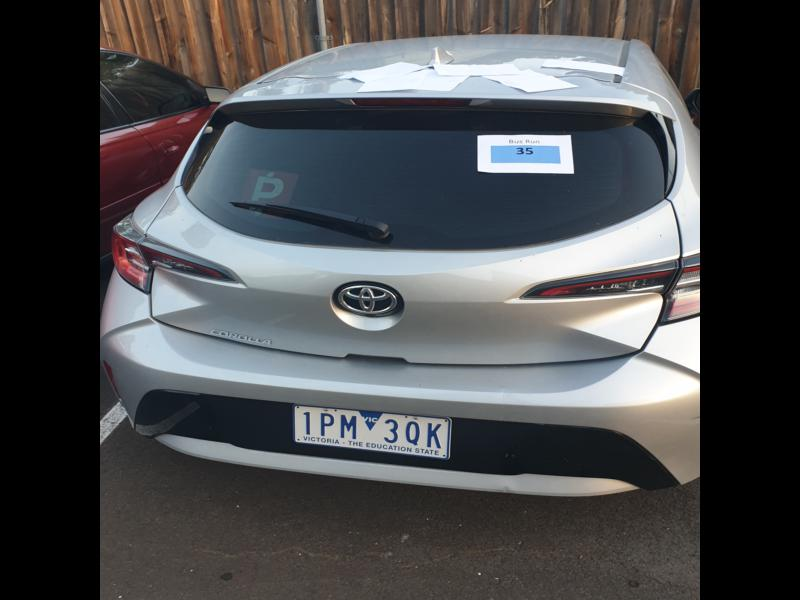BusRun: (490, 145, 563, 164)
PlateNo: (291, 405, 454, 459)
